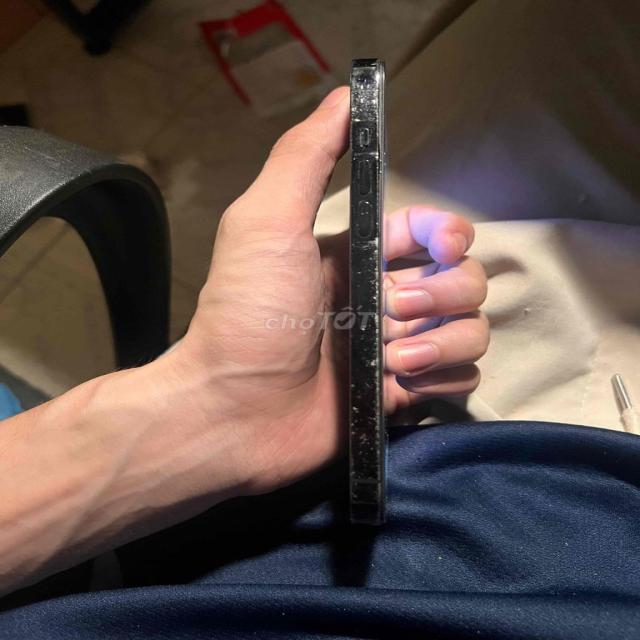scratch: (333, 62, 421, 521)
